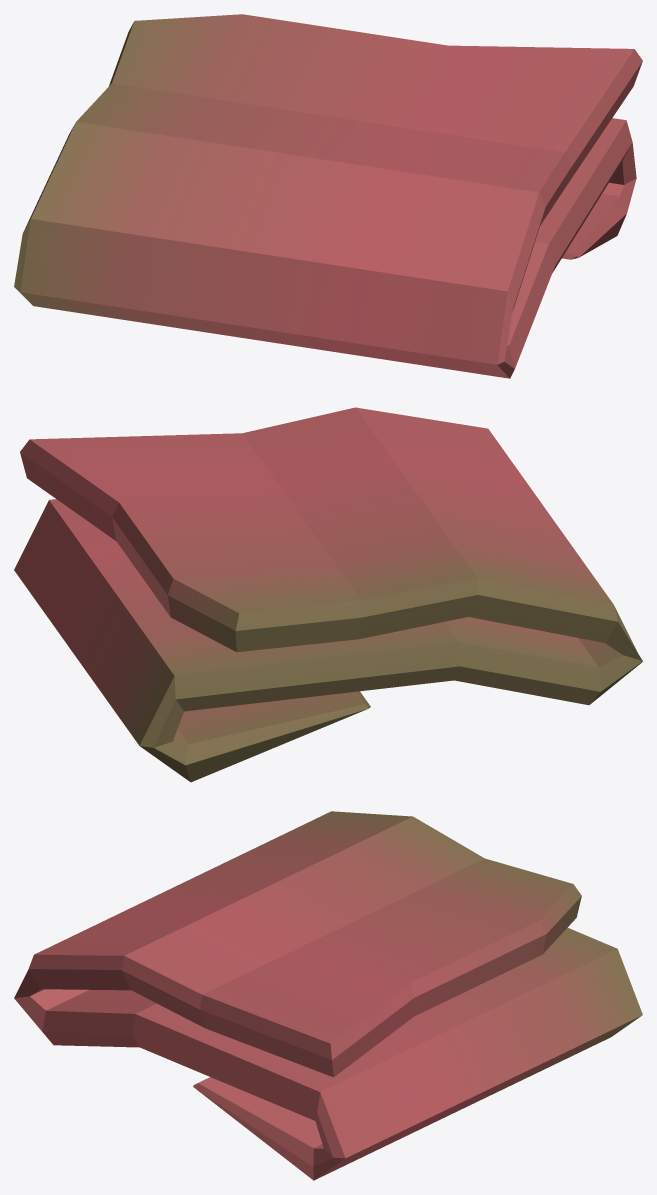
File: Gym_Towel.fbx
3 views of the same model, one above another, from view 1: azimuth 30°, elevation 25°; view 2: azimuth 150°, elevation 25°; view 3: azimuth 270°, elevation 25° (orthographic). The views are drawn at different scales.
Visible parts, largest first — view 1: Gym_Towel; view 2: Gym_Towel; view 3: Gym_Towel.
Part boxes in pixels (x1,y1,x2,y2): Gym_Towel: (14, 14, 642, 378); Gym_Towel: (14, 407, 642, 782); Gym_Towel: (14, 811, 642, 1180).
Bounding box in the file's own units: 60.44 × 17.2 × 60.45.
